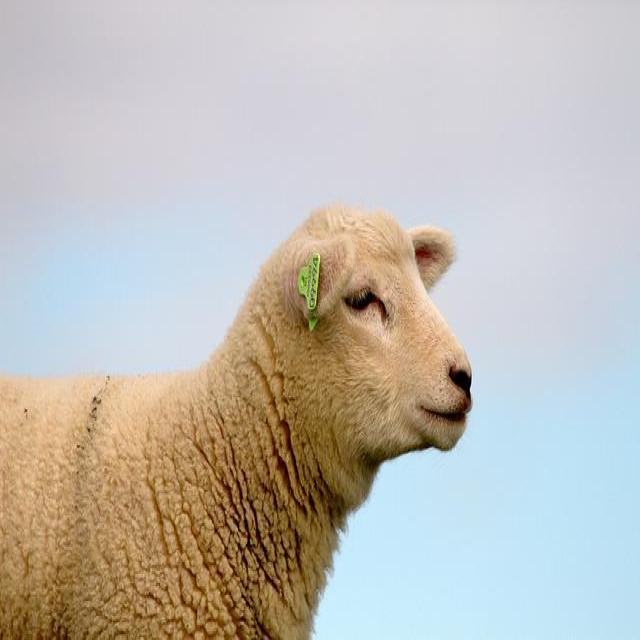Sheep: (5, 210, 473, 634)
